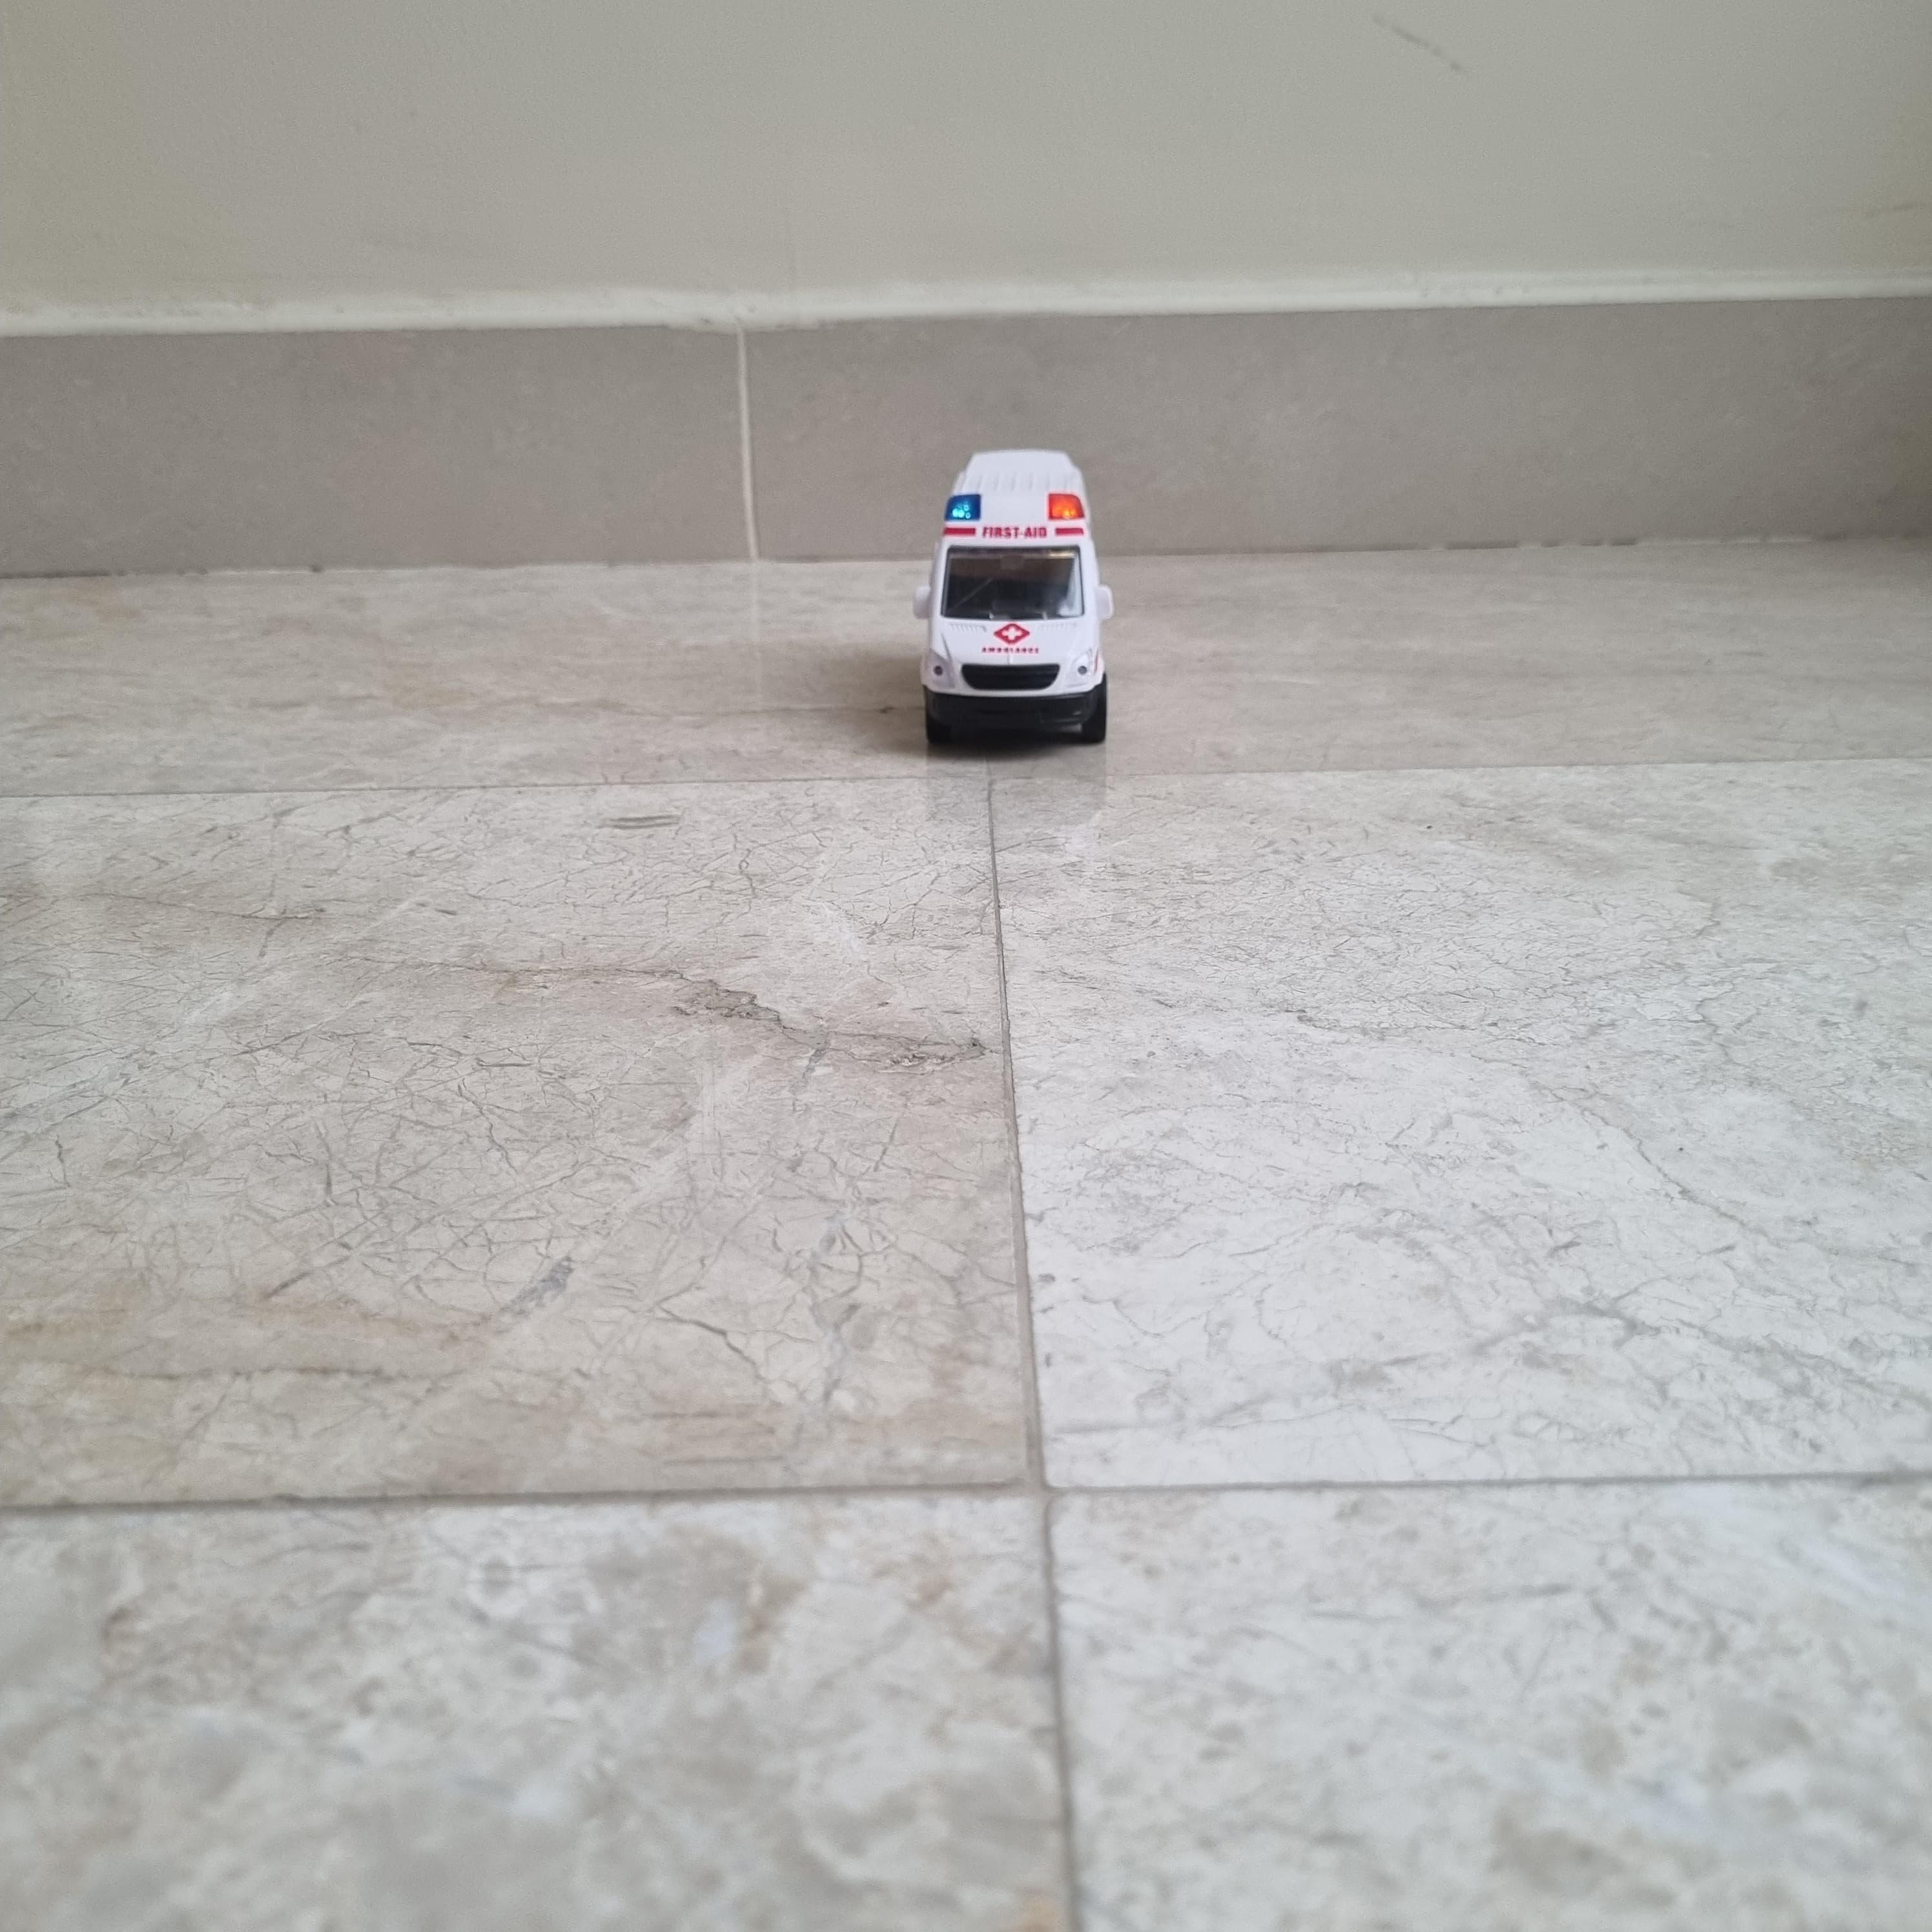ambulance_on: (911, 446, 1120, 757)
